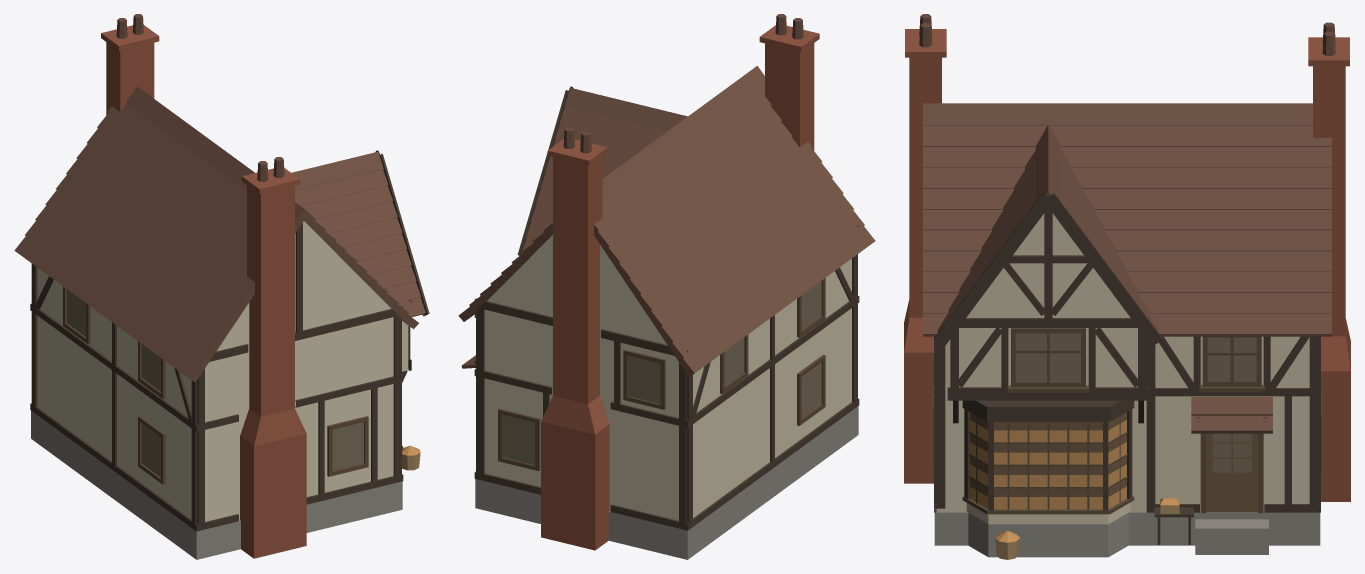
The model's file is bakery_shop.glb.
The picture shows the model from 3 angles, left to right: view 1: azimuth 30°, elevation 25°; view 2: azimuth 150°, elevation 25°; view 3: azimuth 270°, elevation 25°; orthographic projection. The views are drawn at different scales.
Visible parts, largest first — view 1: bakery_shop_lod0; view 2: bakery_shop_lod0; view 3: bakery_shop_lod0.
Part boxes in pixels (box(x1,y1,x2,y2)): bakery_shop_lod0: box(14, 14, 429, 559); bakery_shop_lod0: box(458, 14, 875, 559); bakery_shop_lod0: box(904, 14, 1350, 559).
Size of what is drawn, in the model's own units: 6.56 by 9.27 by 8.2.
